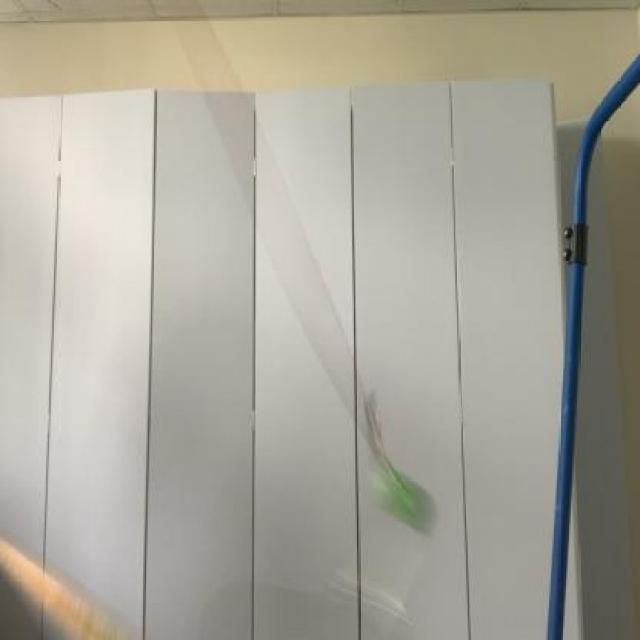baseball: (350, 451, 444, 534)
